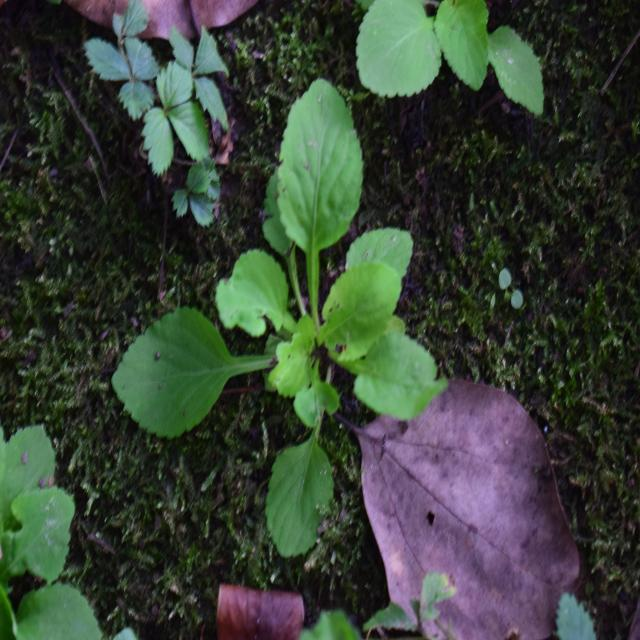Viola: (138, 148, 444, 496)
